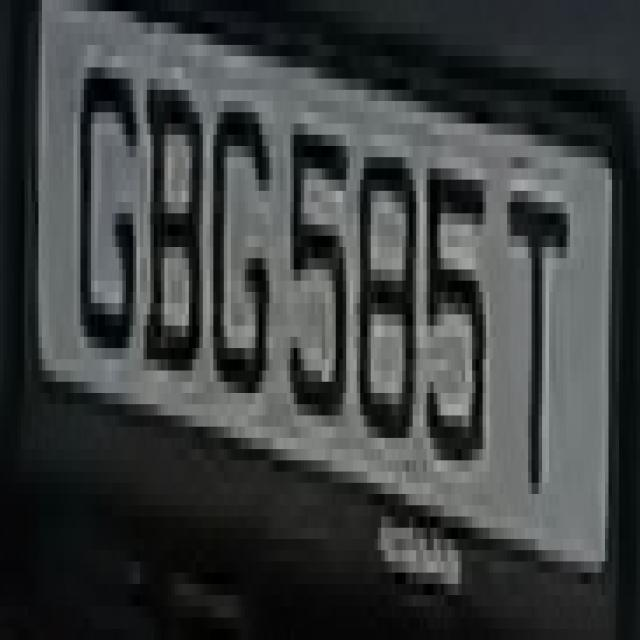5: (416, 112, 493, 528), (280, 101, 350, 438)
8: (346, 112, 423, 472)
B: (133, 56, 213, 371)
G: (70, 22, 143, 393), (200, 79, 276, 393)
T: (500, 157, 574, 494)
